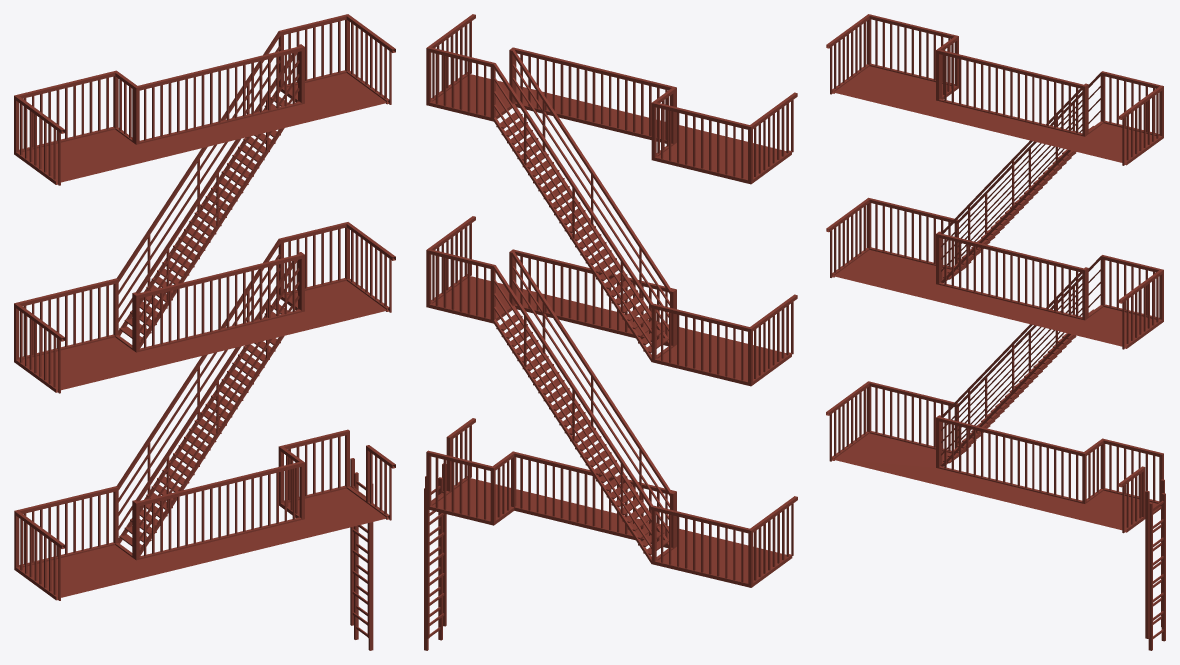
File: FireEscape.fbx
3 views of the same model, side by side, from view 1: azimuth 30°, elevation 25°; view 2: azimuth 150°, elevation 25°; view 3: azimuth 330°, elevation 25° (orthographic). The views are drawn at different scales.
Parts seen in each view (by area): view 1: Plane.033, Plane.032, Plane.031; view 2: Plane.033, Plane.032, Plane.031; view 3: Plane.033, Plane.032, Plane.031.
Boxes of the visible parts, left/top/right/bottom form: Plane.033: left=14, top=14, right=395, bottom=348; Plane.032: left=14, top=222, right=395, bottom=555; Plane.031: left=14, top=429, right=395, bottom=650; Plane.033: left=426, top=14, right=797, bottom=361; Plane.032: left=426, top=216, right=797, bottom=563; Plane.031: left=424, top=418, right=797, bottom=650; Plane.033: left=826, top=14, right=1163, bottom=282; Plane.032: left=826, top=197, right=1163, bottom=466; Plane.031: left=826, top=381, right=1165, bottom=650.
Size of the model in its own units: 514 by 900 by 125.
